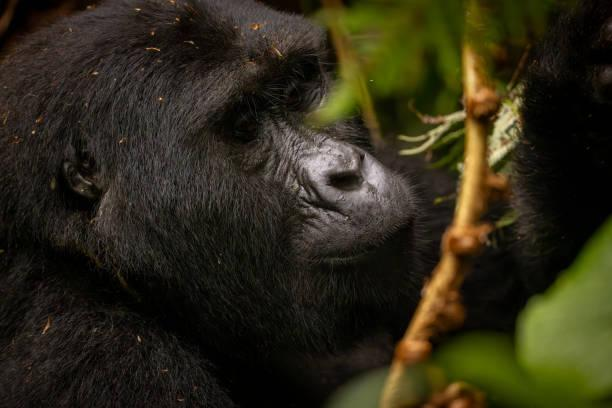goriile_montagne: (6, 0, 436, 408)
